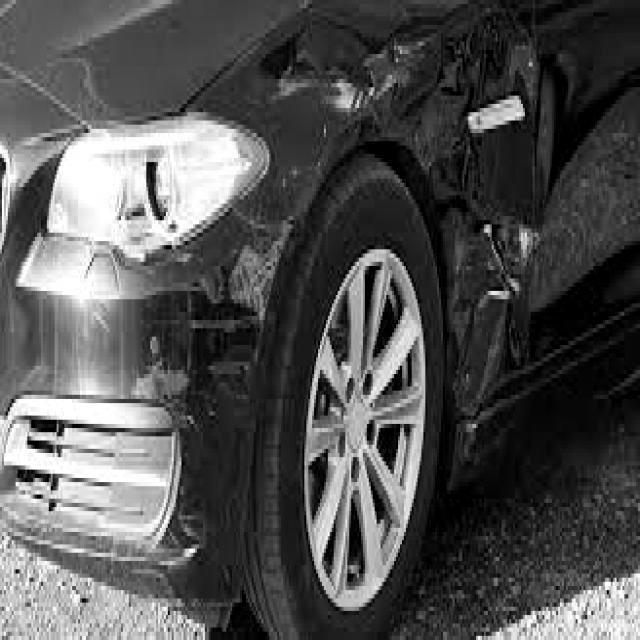fender-dent: (262, 14, 526, 130), (442, 135, 540, 401)
